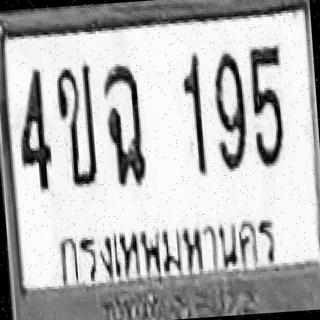A02: (53, 62, 98, 186)
A09: (100, 61, 147, 186)
N00: (210, 50, 248, 172)
N01: (178, 52, 207, 178)
N04: (12, 65, 52, 192)
N05: (248, 44, 288, 168)
N09: (210, 49, 248, 170)
P04: (44, 206, 291, 292)
